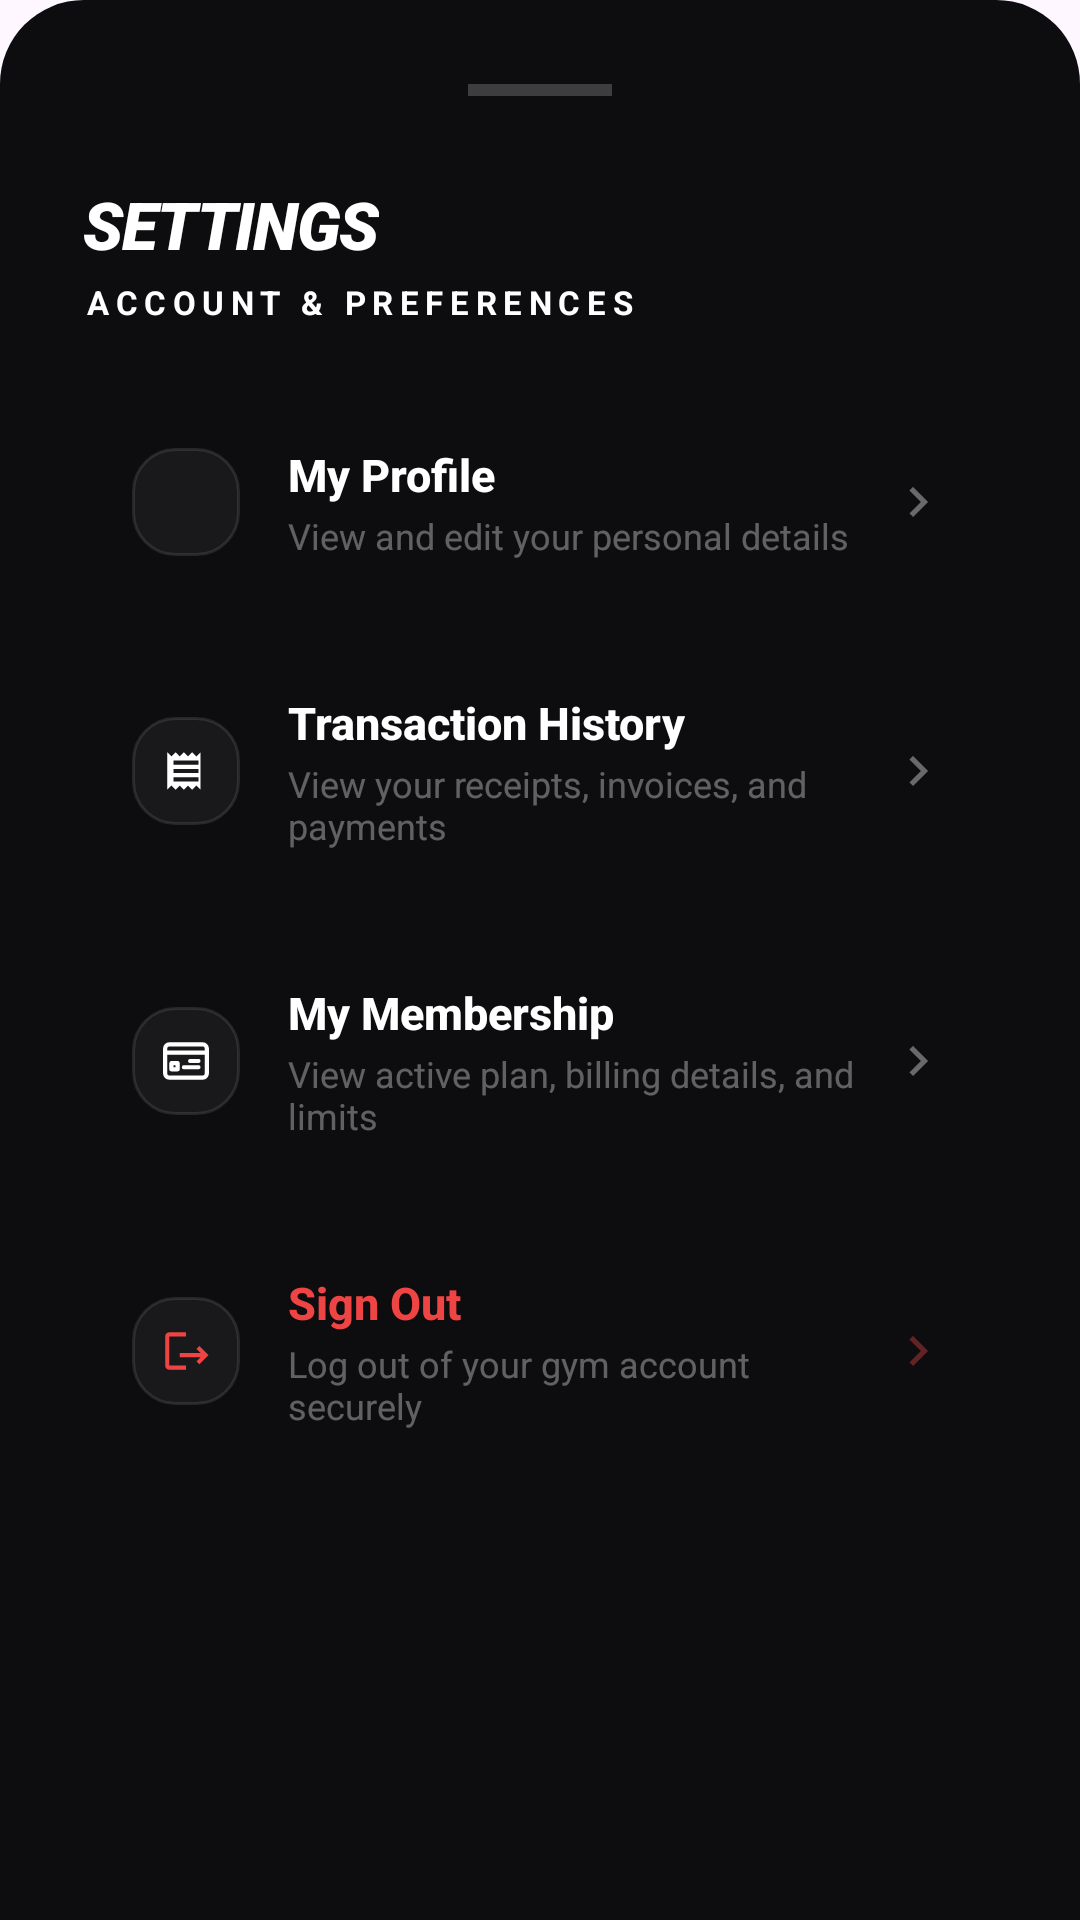

Point at icon controls on the screen. Image size 1080 × 1920, points as (x,y).
chevron right: (918,502), (918,771), (918,1061), (918,1351)
